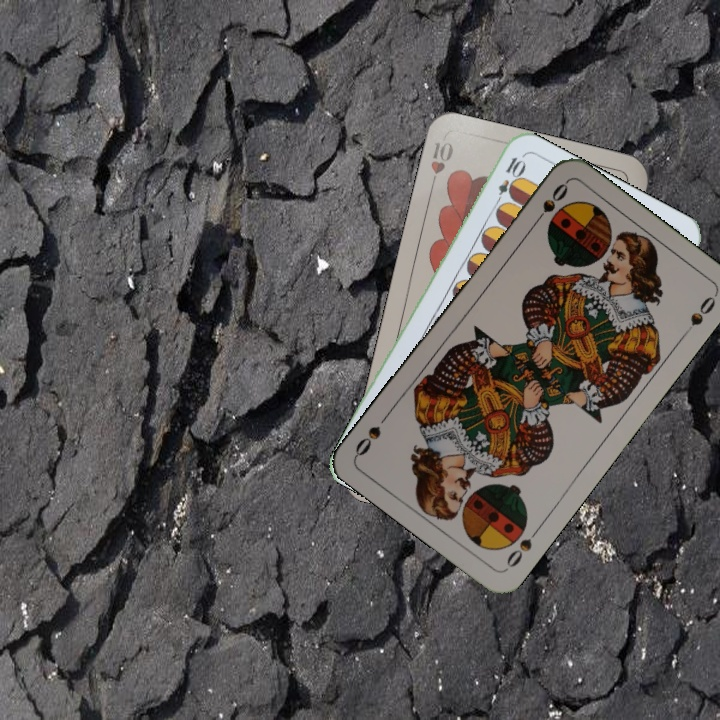E10: (490, 153, 526, 210)
H10: (426, 137, 456, 193)
SO: (529, 178, 571, 229), (501, 522, 543, 572)
